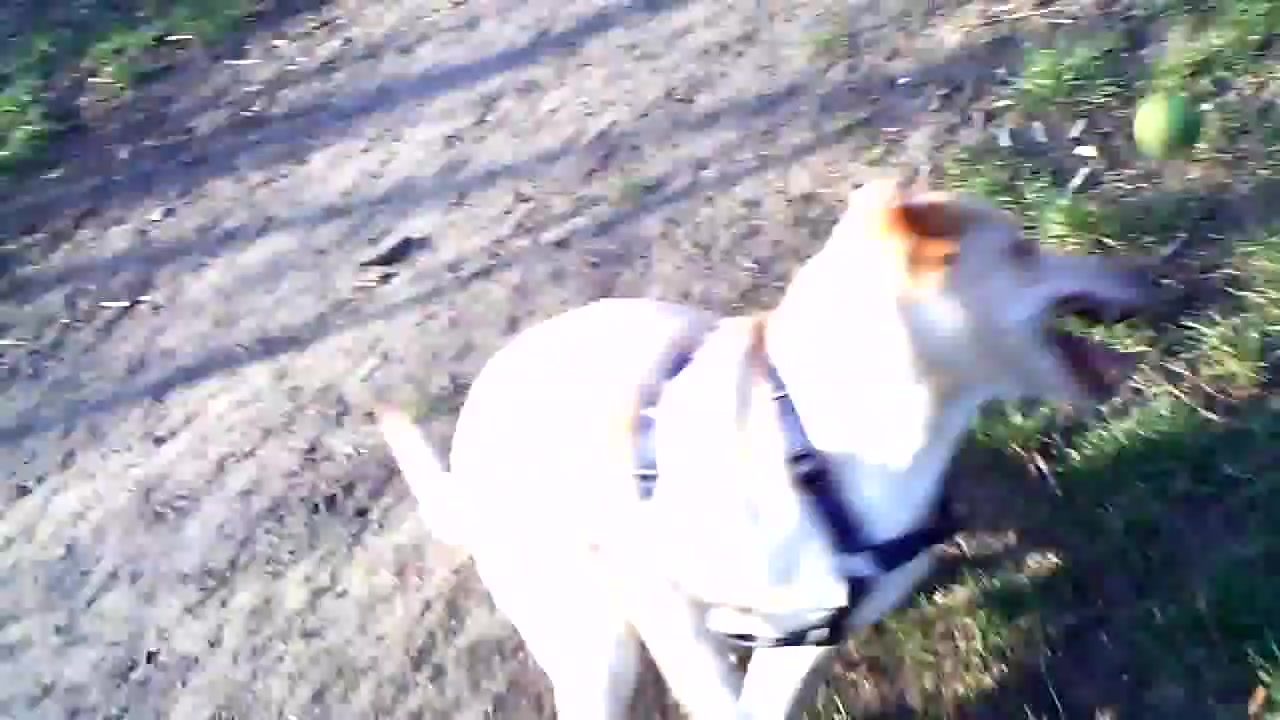dog: (371, 167, 1202, 720)
